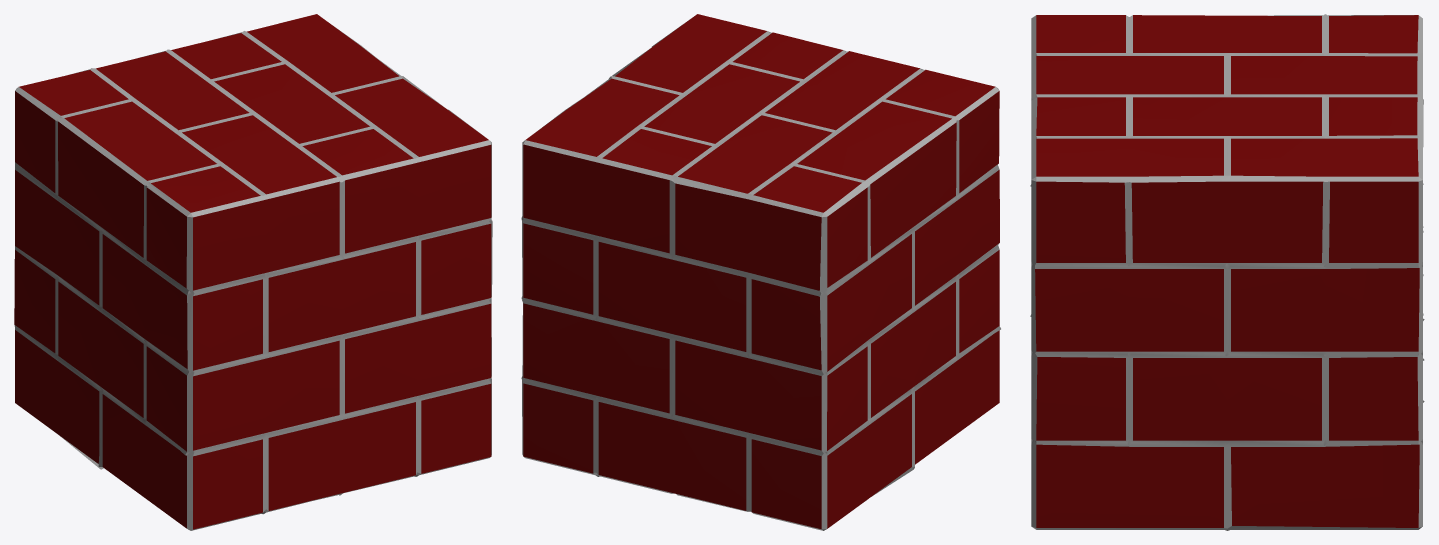
File: Brick.fbx
3 renders of one model, left to right at view 1: azimuth 30°, elevation 25°; view 2: azimuth 150°, elevation 25°; view 3: azimuth 270°, elevation 25°, orthographic. The views are drawn at different scales.
Parts seen in each view (by area): view 1: pCube2; view 2: pCube2; view 3: pCube2.
Boxes of the visible parts, <box> form: pCube2: <box>14,14,492,530</box>; pCube2: <box>521,14,1000,530</box>; pCube2: <box>1030,14,1424,530</box>.
Size of the model in its own units: 1.01 by 1.01 by 1.01.
